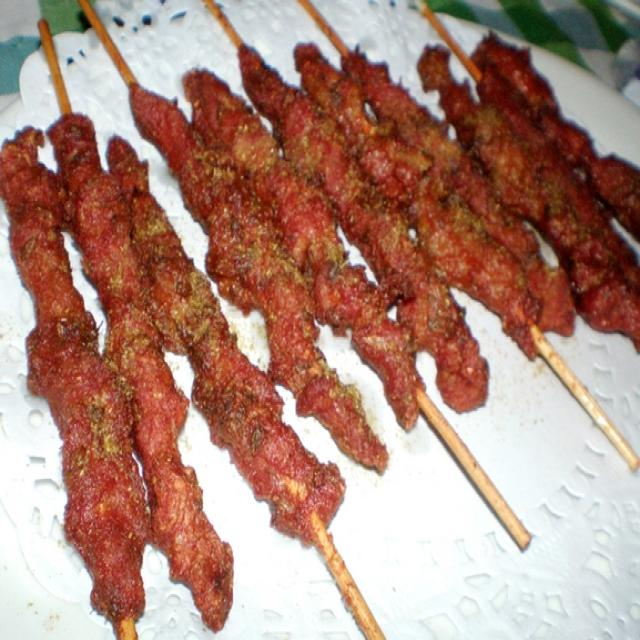烧串烤肉: (20, 21, 596, 631)
